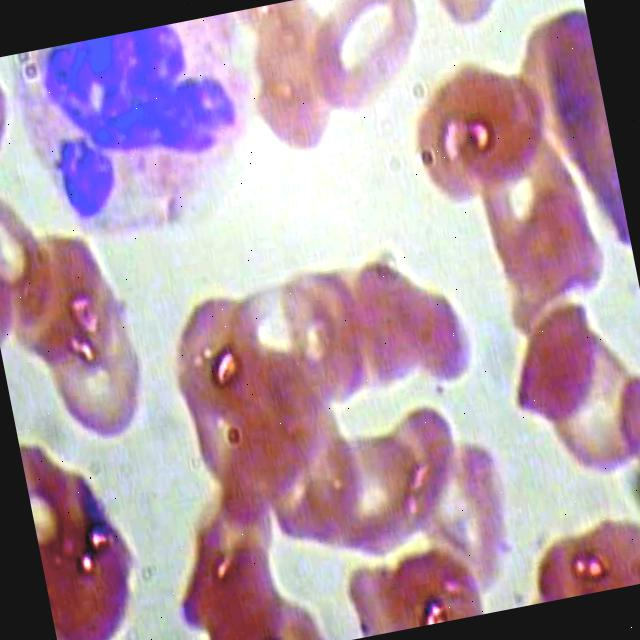RBC: (323, 395, 482, 580), (392, 430, 538, 617), (25, 258, 161, 455), (471, 139, 614, 323), (158, 286, 288, 459), (229, 0, 359, 167), (400, 58, 529, 224), (26, 467, 148, 640), (531, 329, 640, 491), (304, 0, 439, 124), (497, 300, 616, 436), (443, 63, 562, 198), (336, 246, 435, 398), (172, 537, 311, 640), (392, 264, 484, 397), (360, 542, 490, 636), (604, 369, 640, 521), (417, 0, 527, 45)
WBC: (0, 10, 276, 252)
